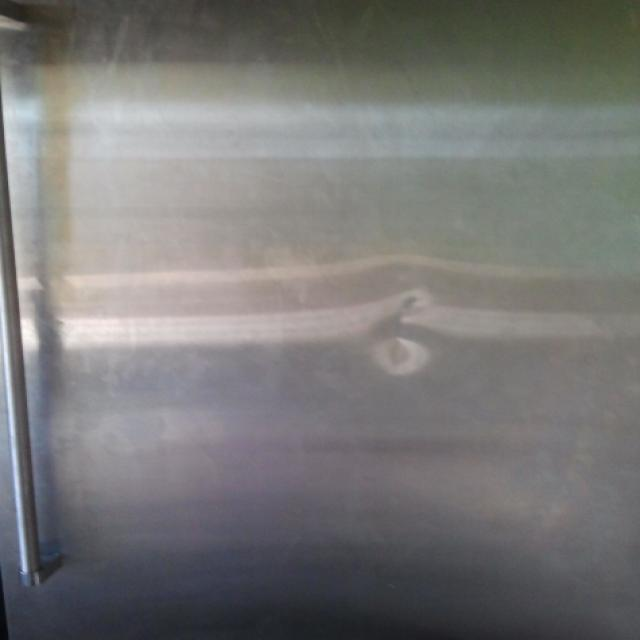dents: (354, 271, 444, 418)
